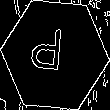P_S: (36, 28, 74, 82)
